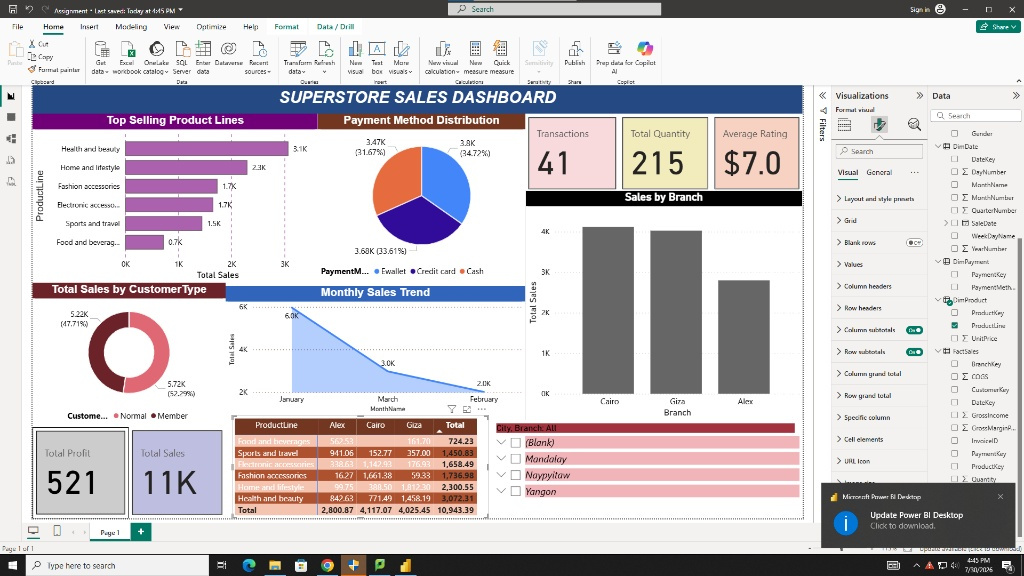

Layout of this report page (visuals, bound fields, positions):
{"tool":"powerbi","page":{"name":"Page 1","canvas":[1280,720],"ordinal":0},"visuals":[{"type":"textbox","box":[0,0,1280,47],"z":0},{"type":"cardVisual","fields":{"Data":["DimBranch.Total Sales"]},"box":[160.5,568.4,160.5,151.6],"z":1000},{"type":"cardVisual","fields":{"Data":["DimBranch.Total Profit"]},"box":[0,568.4,160.5,151.6],"z":2000},{"type":"cardVisual","fields":{"Data":["DimBranch.Total Quantity"]},"box":[1128.8,47.9,151.6,130.3],"z":3000},{"type":"cardVisual","fields":{"Data":["DimBranch.Total Quantity"]},"box":[975.4,47.9,153.4,130.3],"z":4000},{"type":"cardVisual","fields":{"Data":["DimBranch.Transactions"]},"box":[819.3,47.9,156.1,130.3],"z":5000},{"type":"clusteredColumnChart","title":"Sales by Branch","fields":{"Category":["DimBranch.Branch"],"Y":["DimBranch.Total Sales"]},"box":[819.3,174.7,461.1,382.2],"z":6000},{"type":"pieChart","title":"Payment Method Distribution","fields":{"Category":["DimPayment.PaymentMethod"],"Y":["DimBranch.Total Sales"]},"box":[474.4,47,344.9,281.1],"z":7000},{"type":"barChart","title":"Top Selling Product Lines","fields":{"Category":["DimProduct.ProductLine"],"Y":["DimBranch.Total Sales"]},"box":[0,47,474.4,281.1],"z":8000},{"type":"lineChart","title":"Monthly Sales Trend","fields":{"Category":["DimDate.MonthName"],"Y":["DimBranch.Total Sales"]},"box":[321,328.1,498.3,228.8],"z":9000},{"type":"donutChart","fields":{"Category":["DimCustomer.CustomerType"],"Y":["DimBranch.Total Sales"]},"box":[0,328.1,321,240.3],"z":10000},{"type":"pivotTable","fields":{"Columns":["DimBranch.Branch"],"Rows":["DimProduct.ProductLine"],"Values":["DimBranch.Total Sales"]},"box":[331.6,556.8,426.5,163.2],"z":11000},{"type":"slicer","fields":{"Values":["DimBranch.City","DimBranch.Branch"]},"box":[758.1,556.8,522.3,163.2],"z":12000}]}

Visuals, with their boxes in screenshot pixels (x1, y1, x2, y2):
textbox: pyautogui.locateOnScreen(3, 0, 1013, 16)
cardVisual - DimBranch.Total Sales: pyautogui.locateOnScreen(129, 427, 256, 547)
cardVisual - DimBranch.Total Profit: pyautogui.locateOnScreen(3, 427, 129, 547)
cardVisual - DimBranch.Total Quantity: pyautogui.locateOnScreen(893, 16, 1013, 119)
cardVisual - DimBranch.Total Quantity: pyautogui.locateOnScreen(772, 16, 893, 119)
cardVisual - DimBranch.Transactions: pyautogui.locateOnScreen(649, 16, 772, 119)
"Sales by Branch" clusteredColumnChart: pyautogui.locateOnScreen(649, 116, 1013, 418)
"Payment Method Distribution" pieChart: pyautogui.locateOnScreen(377, 16, 649, 238)
"Top Selling Product Lines" barChart: pyautogui.locateOnScreen(3, 16, 377, 238)
"Monthly Sales Trend" lineChart: pyautogui.locateOnScreen(256, 238, 649, 418)
donutChart - DimCustomer.CustomerType x DimBranch.Total Sales: pyautogui.locateOnScreen(3, 238, 256, 427)
pivotTable - DimBranch.Branch x DimProduct.ProductLine: pyautogui.locateOnScreen(264, 418, 601, 547)
slicer - DimBranch.City x DimBranch.Branch: pyautogui.locateOnScreen(601, 418, 1013, 547)
